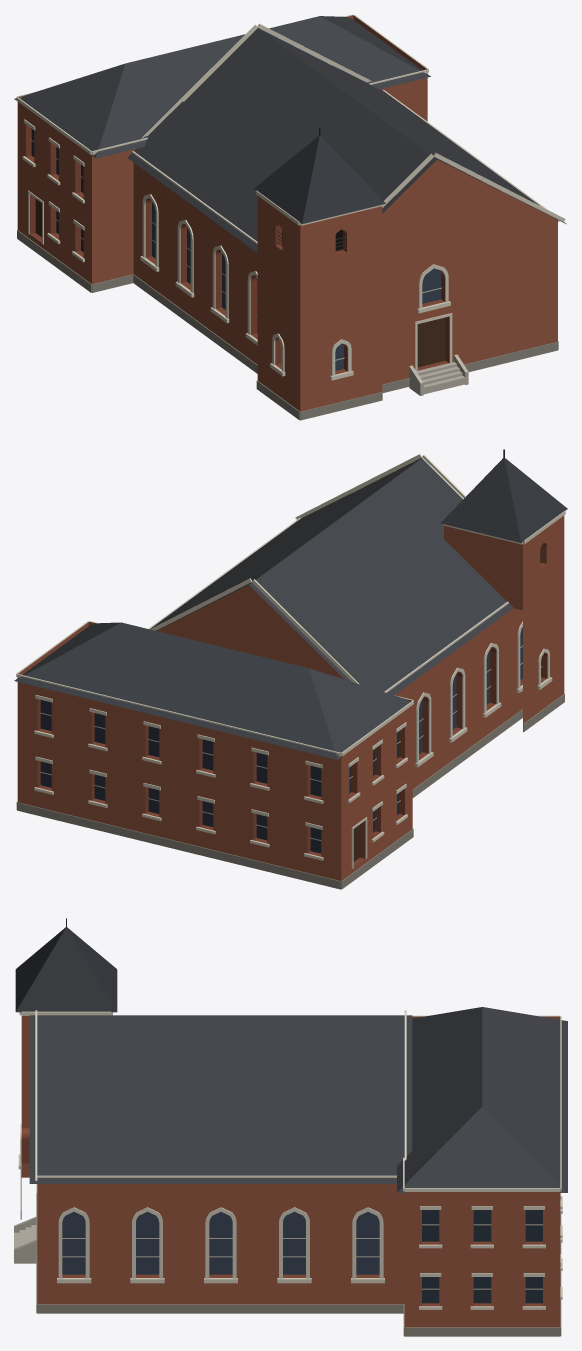
File: ch-first-methodist-nlr-1961.glb
3 renders of one model, top to bottom at view 1: azimuth 30°, elevation 25°; view 2: azimuth 150°, elevation 25°; view 3: azimuth 270°, elevation 25°, orthographic. The views are drawn at different scales.
Visible parts, largest first — view 1: ch_brick, ch_roof, ch_trim, ch_roof2, ch_base, ch_brick2, ch_conc, ch_door, ch_stain; view 2: ch_brick, ch_roof, ch_trim, ch_roof2, ch_base, ch_brick2, ch_glass, ch_stain; view 3: ch_roof, ch_brick, ch_trim, ch_stain, ch_roof2, ch_base, ch_glass, ch_brick2, ch_conc.
Part boxes in pixels (<box>): ch_brick: <box>17,15,557,411</box>; ch_roof: <box>14,16,566,252</box>; ch_trim: <box>16,14,565,380</box>; ch_roof2: <box>254,136,385,223</box>; ch_base: <box>17,230,558,420</box>; ch_brick2: <box>26,124,449,374</box>; ch_conc: <box>409,354,468,395</box>; ch_door: <box>35,199,445,367</box>; ch_stain: <box>152,202,441,370</box>; ch_brick: <box>17,515,564,880</box>; ch_roof: <box>14,458,513,759</box>; ch_trim: <box>16,454,565,868</box>; ch_roof2: <box>440,458,567,542</box>; ch_base: <box>16,693,564,889</box>; ch_brick2: <box>37,543,547,866</box>; ch_glass: <box>40,700,399,853</box>; ch_stain: <box>419,627,522,754</box>; ch_roof: <box>29,1007,567,1192</box>; ch_brick: <box>21,1016,560,1327</box>; ch_trim: <box>18,1010,562,1309</box>; ch_stain: <box>62,1211,379,1274</box>; ch_roof2: <box>15,927,117,1012</box>; ch_base: <box>20,1169,561,1336</box>; ch_glass: <box>422,1210,542,1303</box>; ch_brick2: <box>21,1128,542,1306</box>; ch_conc: <box>14,1217,37,1263</box>.
Bounding box in the file's own units: 21.14 × 16 × 28.5.
